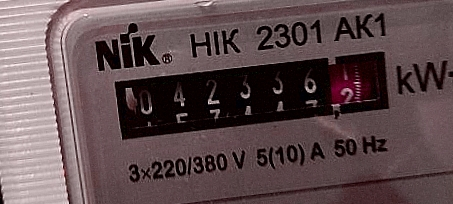0: (135, 87, 154, 116)
1: (336, 59, 350, 82)
2: (202, 75, 221, 106), (337, 85, 355, 104)
3: (265, 65, 285, 97), (234, 71, 252, 100)
4: (168, 78, 188, 108)
6: (299, 63, 320, 95)
screen: (101, 37, 404, 149)
